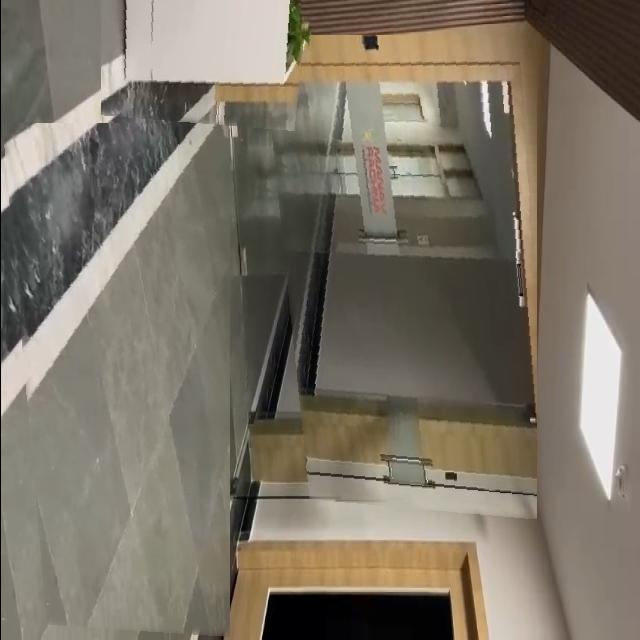door: (258, 35, 536, 524)
floor: (0, 123, 229, 640)
furniture: (100, 0, 307, 131)
